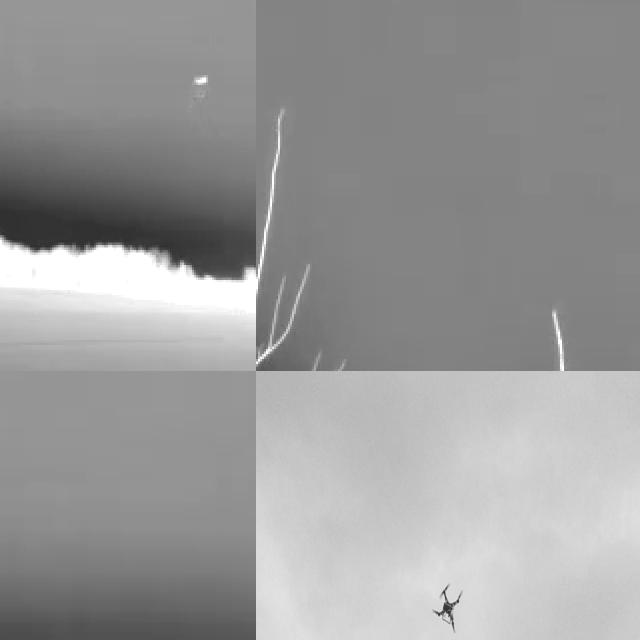1: (186, 70, 216, 100)
drone: (434, 586, 468, 636)
